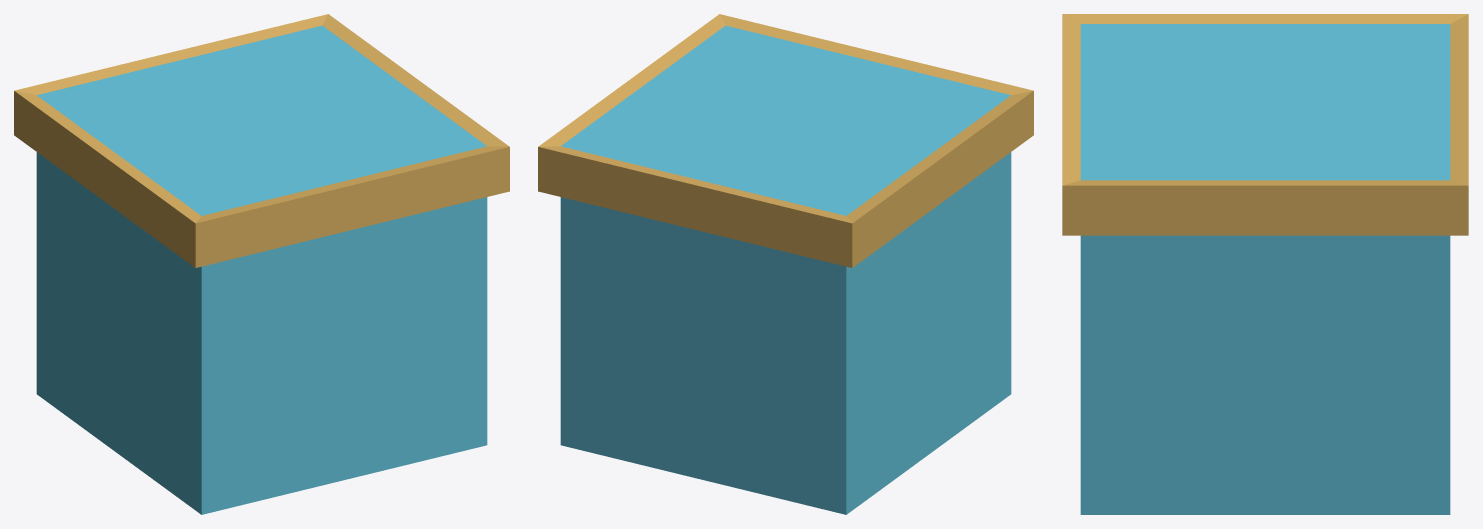
Rendered from SmallTH_Roof.fbx.
The picture shows the model from 3 angles, left to right: view 1: azimuth 30°, elevation 25°; view 2: azimuth 150°, elevation 25°; view 3: azimuth 270°, elevation 25°; orthographic projection. The views are drawn at different scales.
Visible parts, largest first — view 1: SmallTH_Roof; view 2: SmallTH_Roof; view 3: SmallTH_Roof.
Boxes of the visible parts, x1,y1,x2,y2 form: SmallTH_Roof: [14, 14, 509, 514]; SmallTH_Roof: [538, 14, 1033, 514]; SmallTH_Roof: [1062, 14, 1468, 514].
Size of the model in its own units: 2.2 by 2.01 by 2.2.
